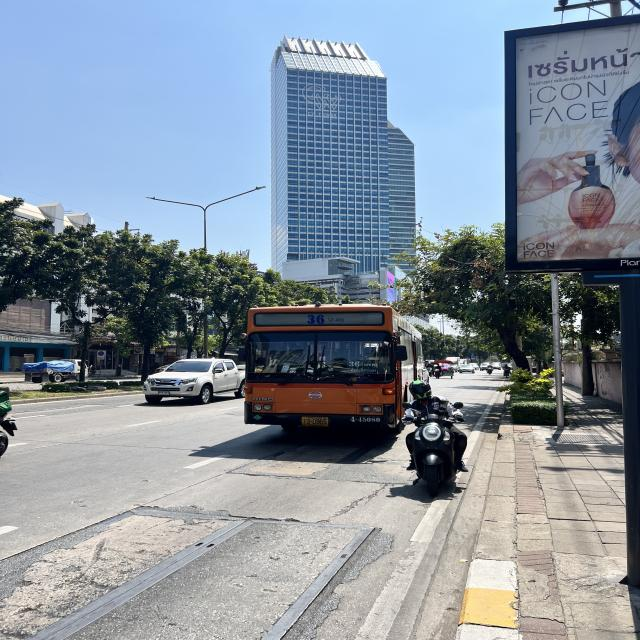BMTA-bus: (242, 304, 416, 433)
Bus Line Number: (303, 312, 347, 326)
Destination Sign: (347, 359, 380, 374), (345, 415, 385, 424)
